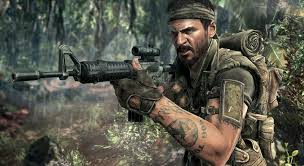Gun: (17, 48, 157, 81)
